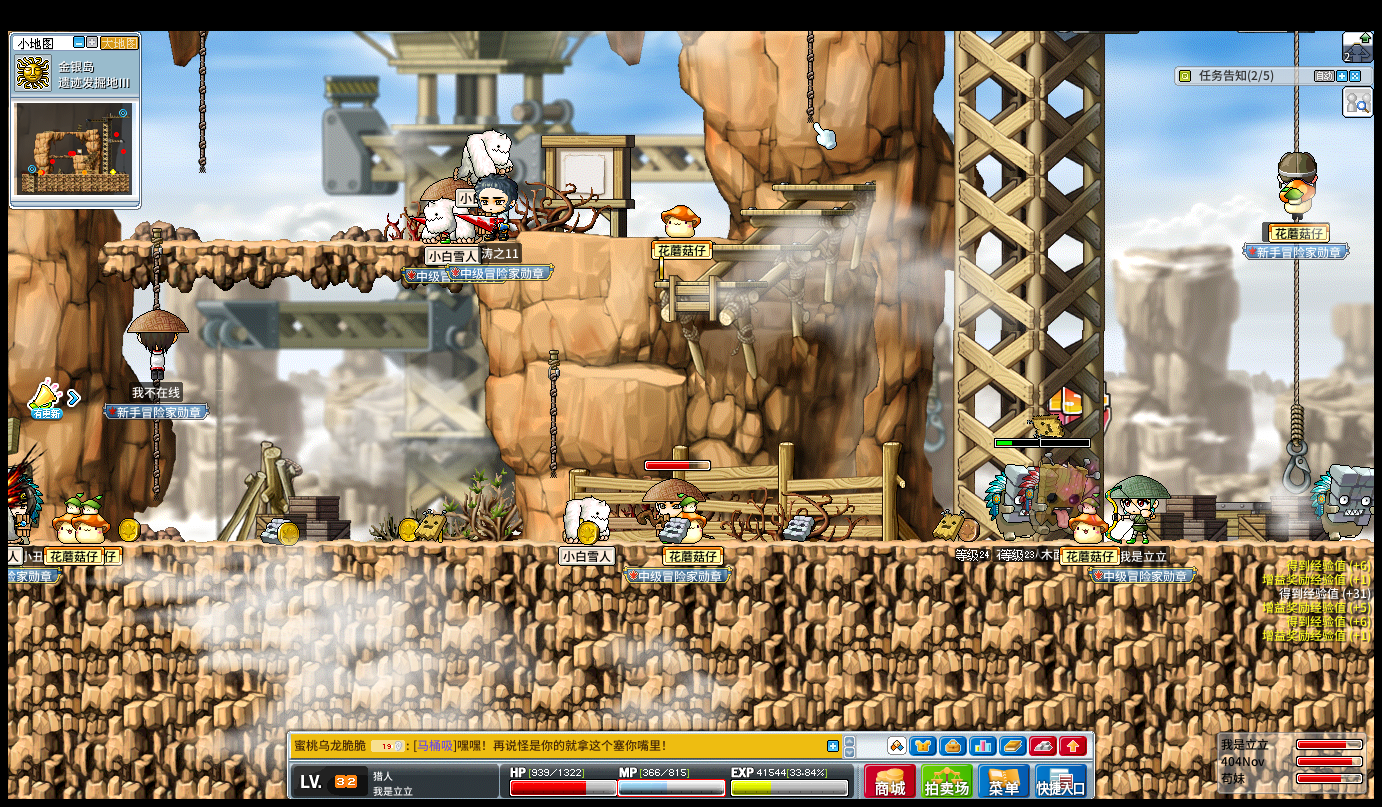floor: (102, 239, 474, 249), (579, 364, 688, 385), (651, 280, 769, 291), (603, 233, 741, 241), (650, 279, 767, 288), (736, 207, 847, 215), (705, 243, 810, 251), (770, 184, 874, 191)
monster: (1310, 463, 1373, 542), (984, 466, 1030, 540)
rope: (546, 350, 561, 483), (1291, 257, 1302, 407), (198, 29, 207, 173), (152, 419, 164, 505), (150, 227, 161, 308), (805, 29, 814, 123), (1292, 29, 1299, 148), (151, 418, 160, 503), (1289, 400, 1304, 444)
